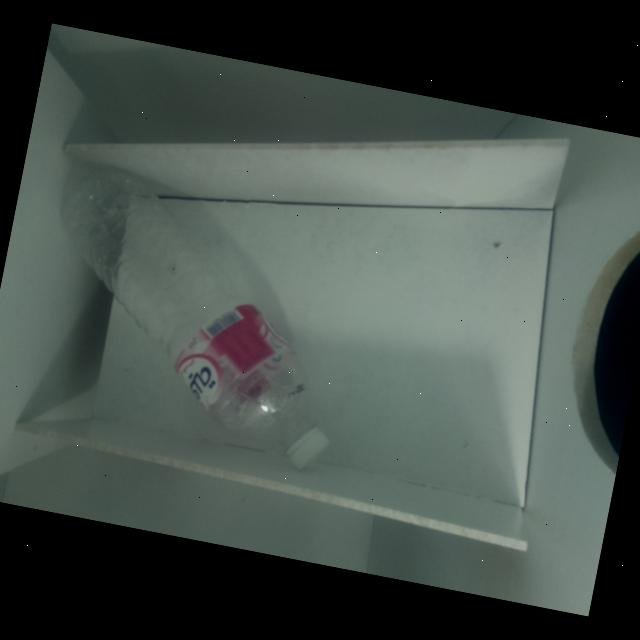trash: (12, 154, 382, 483)
